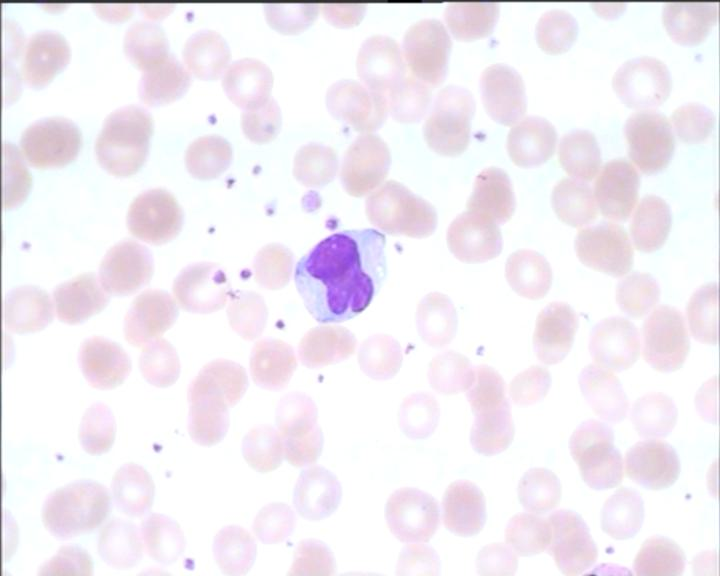mono: (291, 216, 395, 327)
